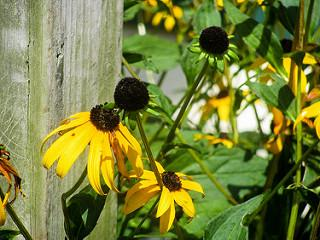sunflower: (41, 105, 144, 193), (124, 159, 205, 231)
